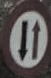Two way: (2, 3, 48, 70)
